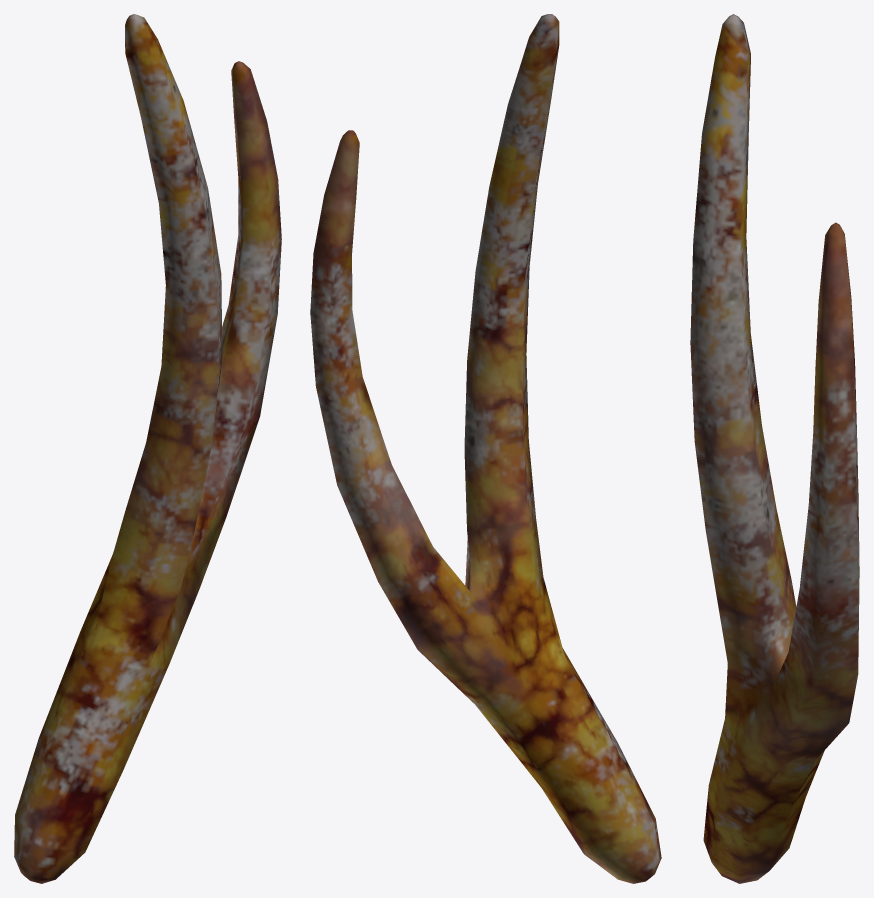
The model's file is Mutation7.fbx.
The picture shows the model from 3 angles, left to right: view 1: azimuth 30°, elevation 25°; view 2: azimuth 150°, elevation 25°; view 3: azimuth 270°, elevation 25°; orthographic projection. The views are drawn at different scales.
Visible parts, largest first — view 1: P_Mutation07.mo; view 2: P_Mutation07.mo; view 3: P_Mutation07.mo.
Boxes of the visible parts, x1=… form: P_Mutation07.mo: x1=14, y1=14, x2=281, y2=883; P_Mutation07.mo: x1=310, y1=14, x2=661, y2=883; P_Mutation07.mo: x1=690, y1=14, x2=859, y2=883.
Size of the model in its own units: 32.37 by 85.96 by 14.44.
